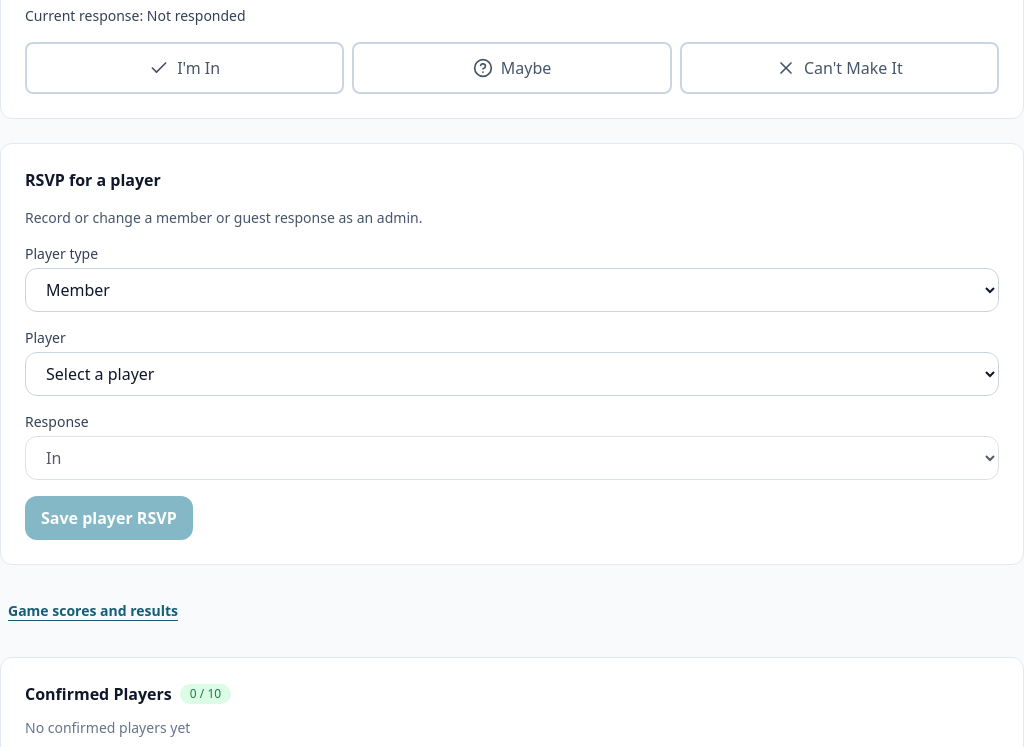
Test: admin player RSVPs › shows a failure and allows retry without changing the roster
(page scrolled)
Select "Ace" in the dropdown labelled "Player" at (512, 374), box left=25, top=352, right=999, bottom=396
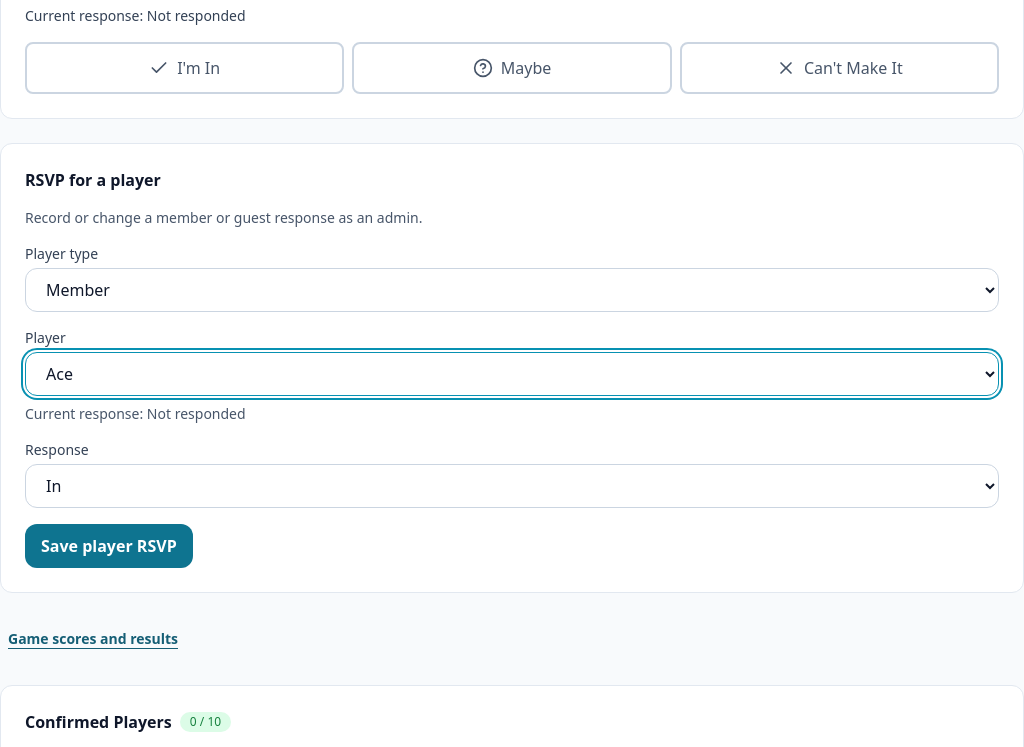
Click the button "Save player RSVP" at (109, 546), box left=25, top=524, right=193, bottom=568
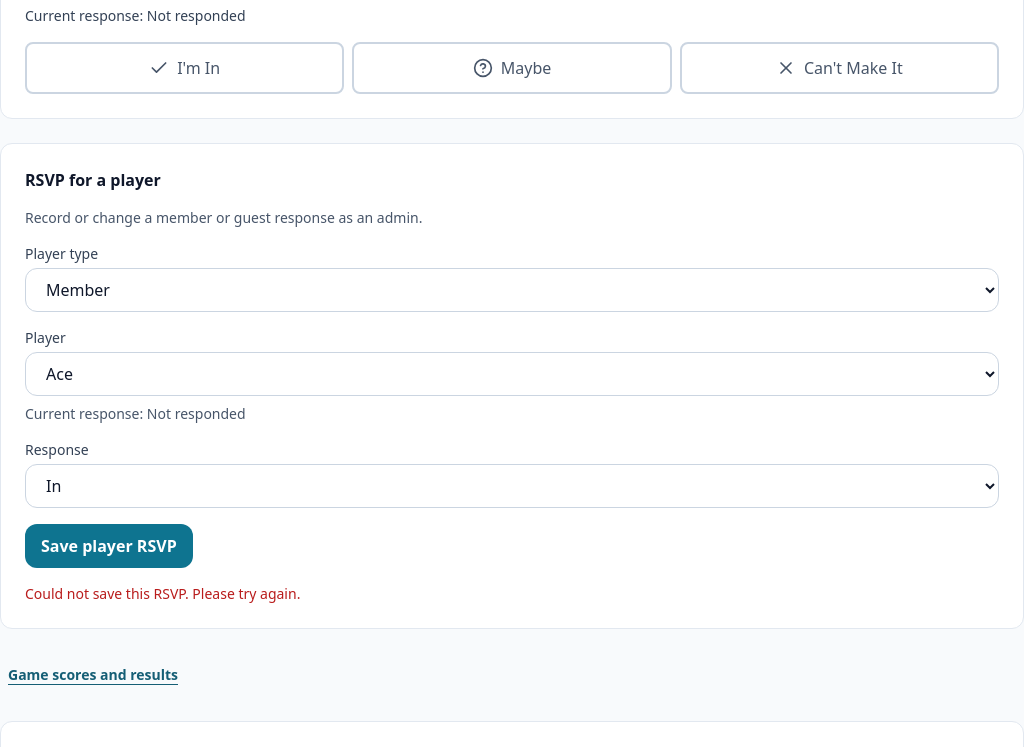
Expected: the message shows "Could not save this RSVP", left=25, top=584, right=300, bottom=603
Click the button "Save player RSVP" at (109, 546), box left=25, top=524, right=193, bottom=568
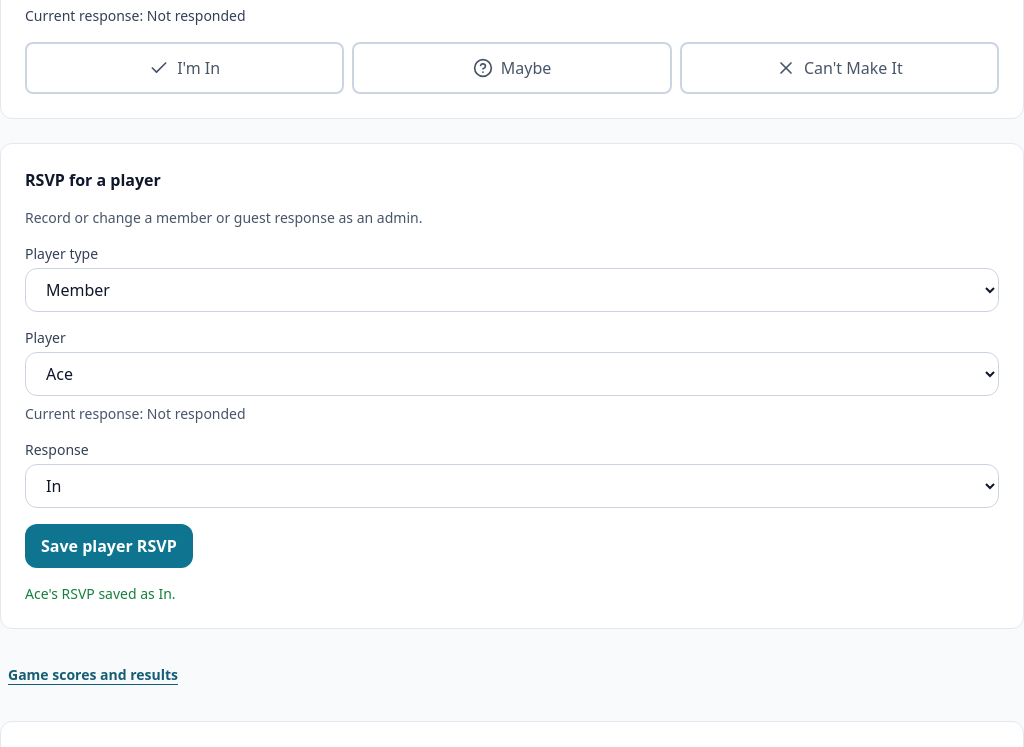
Expected: the text "Ace's RSVP saved as In." is shown, left=25, top=584, right=176, bottom=603
